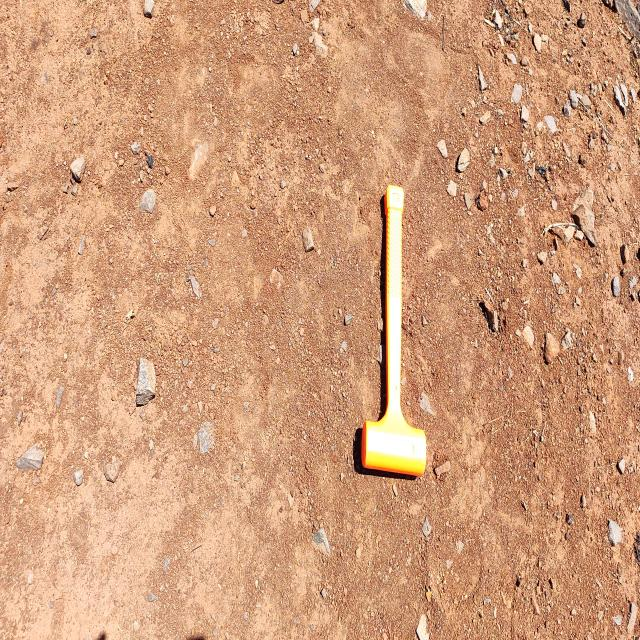Orange_hammer: (360, 183, 427, 477)
